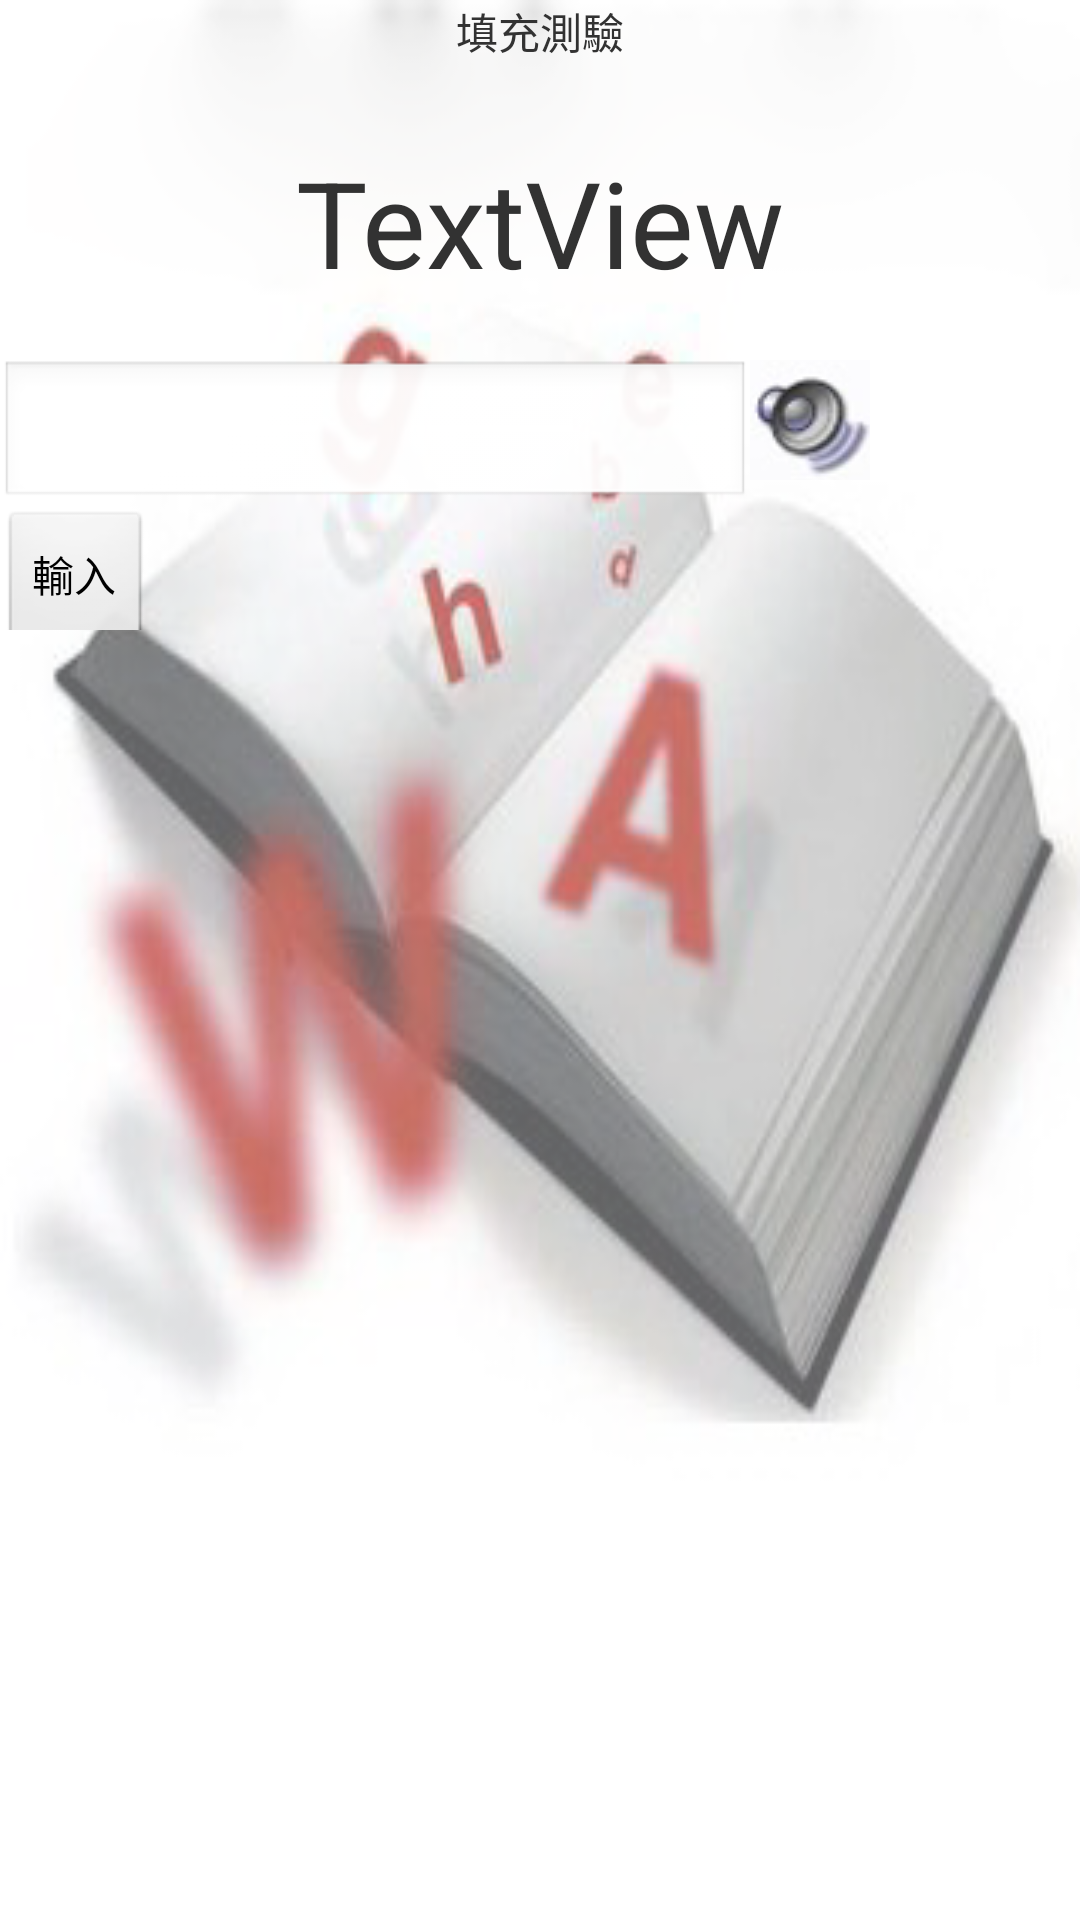

Icon click points for this 1080px x 1920px phone screenshot, format (x,y):
horn: (811,425)
